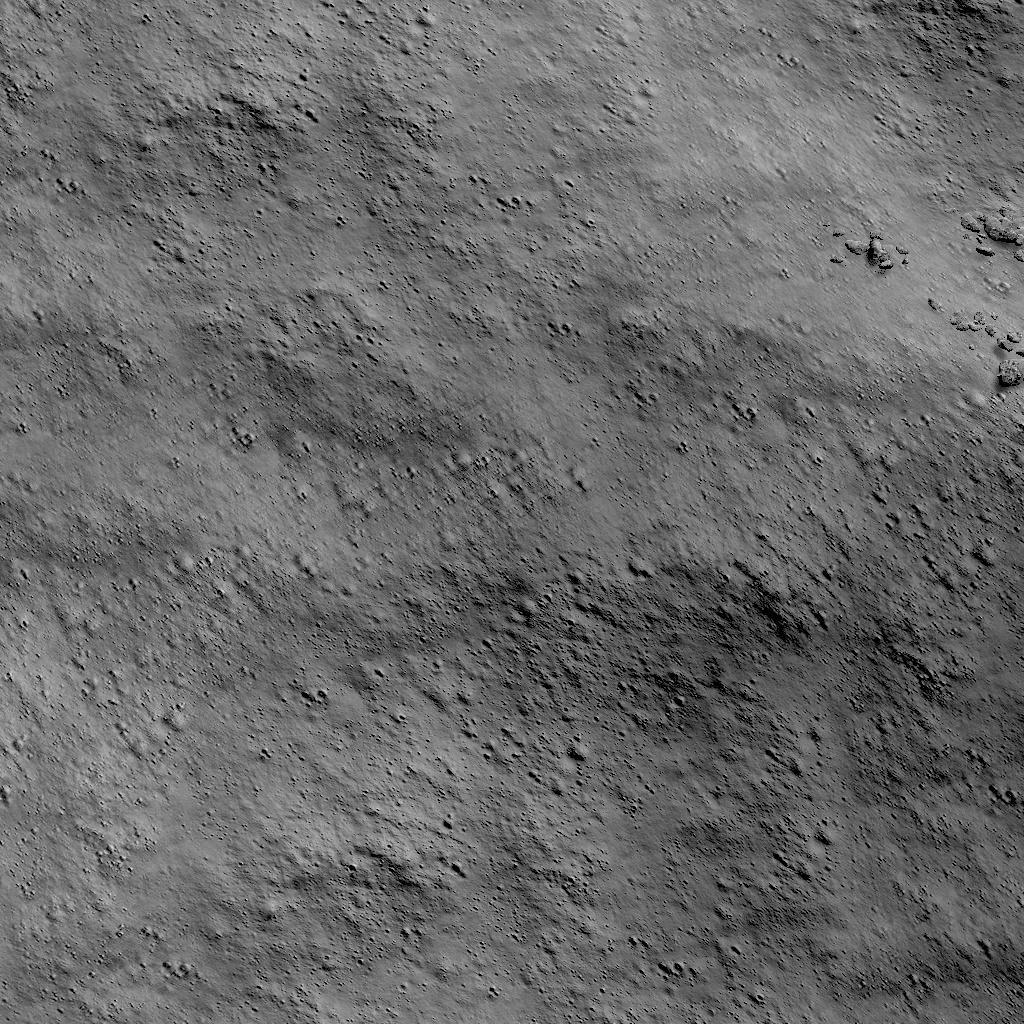Plan surface: (14, 0, 818, 1024), (841, 405, 1024, 1024), (837, 0, 1024, 186)
